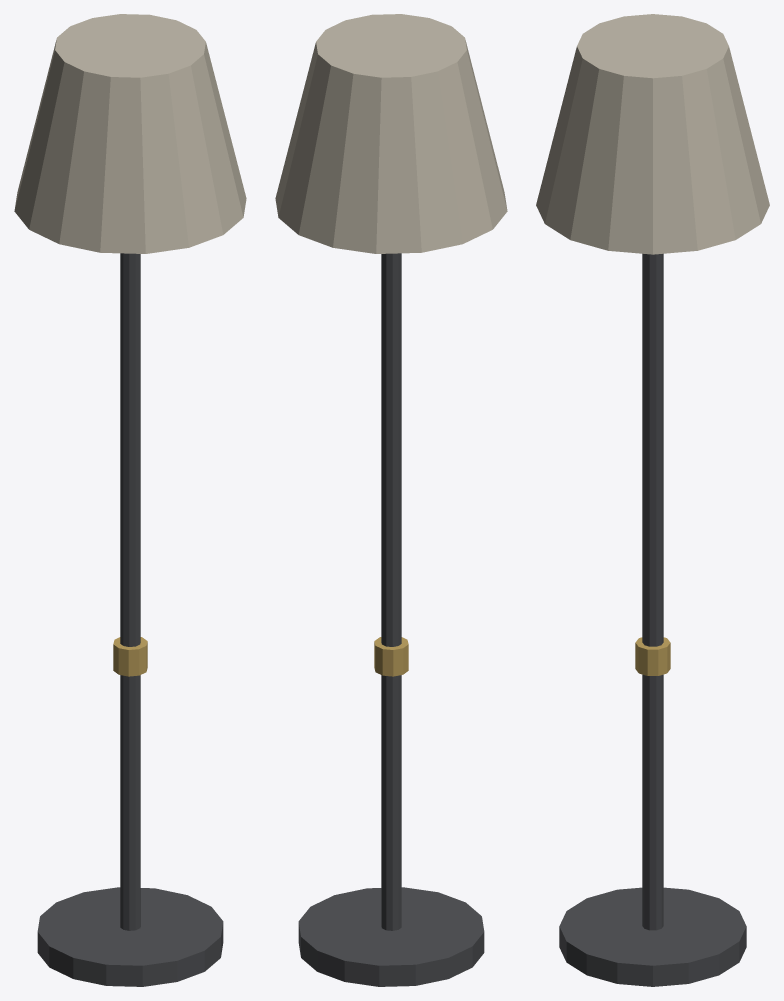
File: PRP_Lamp_ND_v001.glb
3 views of the same model, side by side, from view 1: azimuth 30°, elevation 25°; view 2: azimuth 150°, elevation 25°; view 3: azimuth 270°, elevation 25° (orthographic).
Parts seen in each view (by area): view 1: PRP_Lamp_ND_v001; view 2: PRP_Lamp_ND_v001; view 3: PRP_Lamp_ND_v001.
Part boxes in pixels (x1,y1,x2,y2): PRP_Lamp_ND_v001: (14,14,246,986); PRP_Lamp_ND_v001: (275,14,507,986); PRP_Lamp_ND_v001: (536,14,769,986).
Size of the model in its own units: 0.4 by 1.7 by 0.4.
